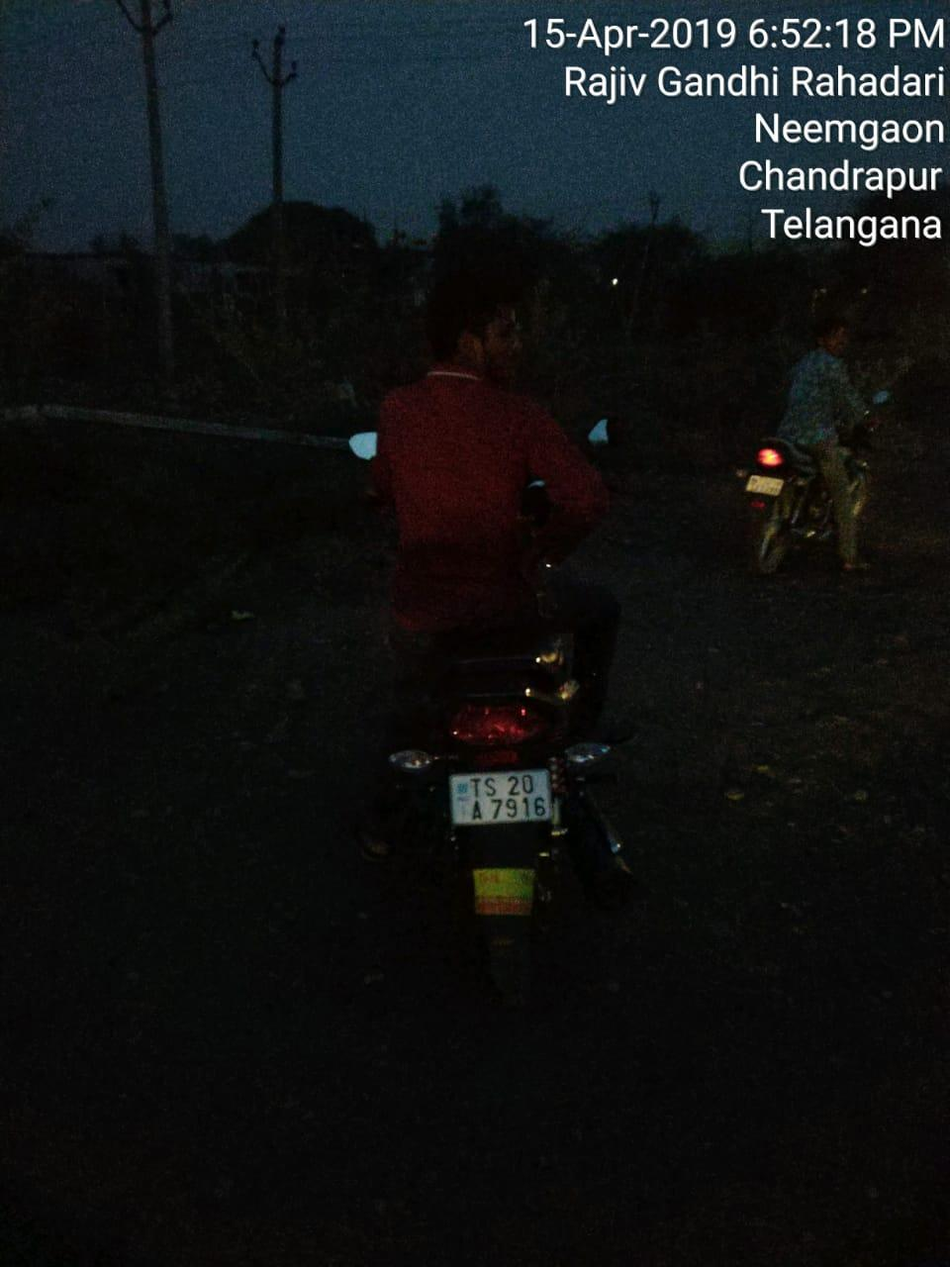plate: (414, 744, 570, 848)
